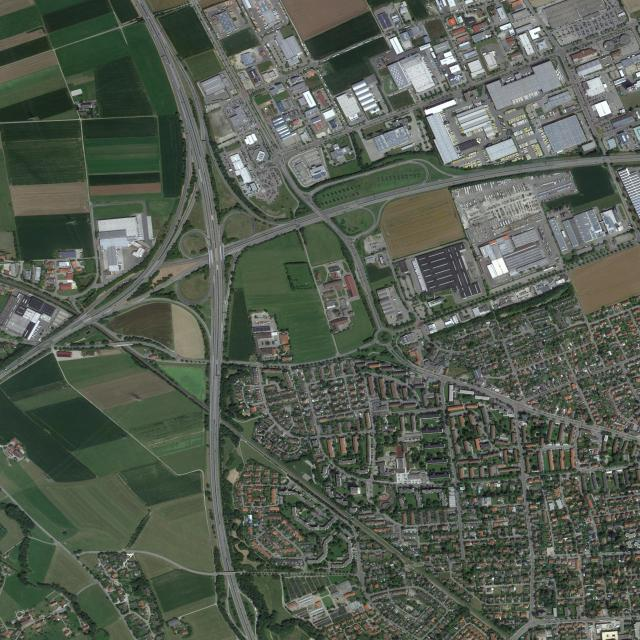large-vehicle: (346, 48, 350, 52), (327, 89, 330, 94), (365, 40, 370, 43), (324, 83, 327, 87), (392, 298, 397, 300), (404, 26, 409, 28), (398, 311, 402, 313)
storage-tank: (13, 457, 18, 462)
